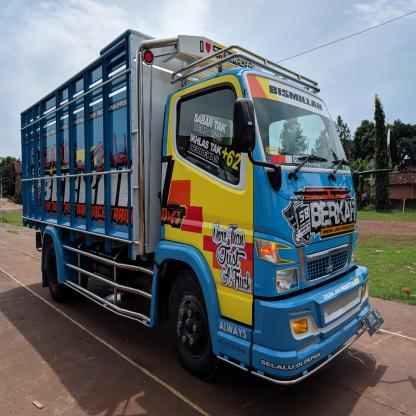truck: (22, 30, 381, 388)
